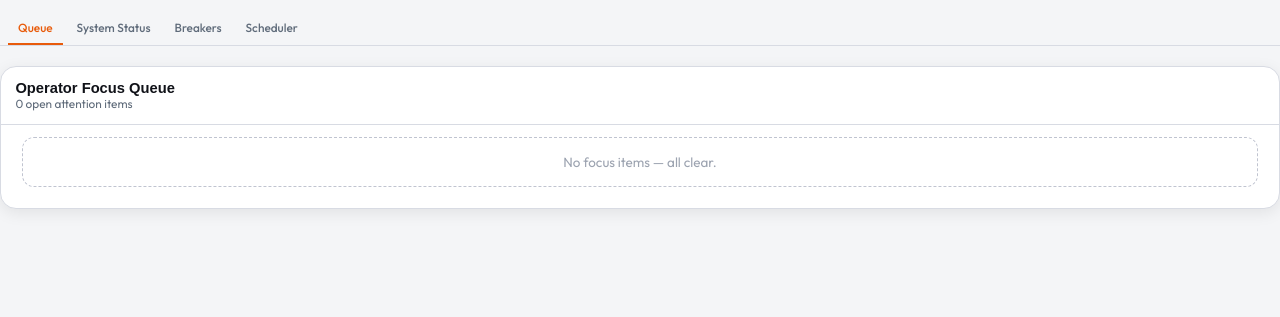
Test: FocusPage system status parity › shows the empty adapters state
Click the tab with class "mc-sub-tab" showing "System Status": point(114, 28) top-left (67, 12), bottom-right (161, 45)
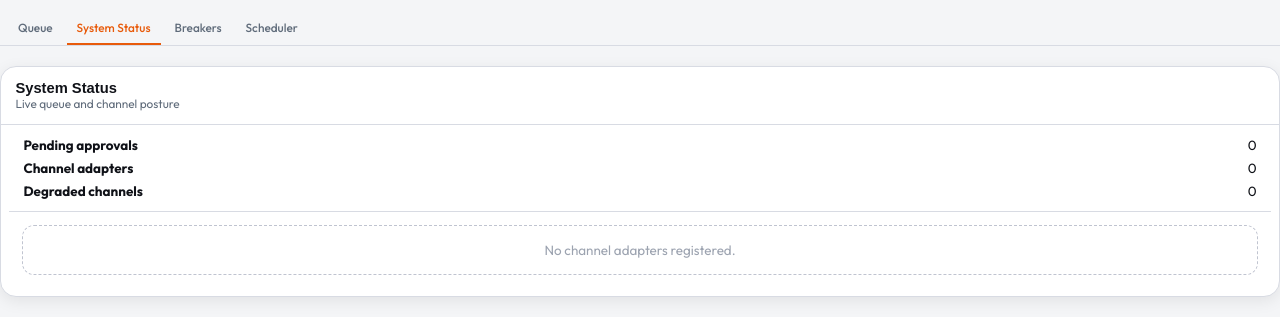
Check: the text "No channel adapters registered." is shown, box top-left (22, 225), bottom-right (1258, 275)
